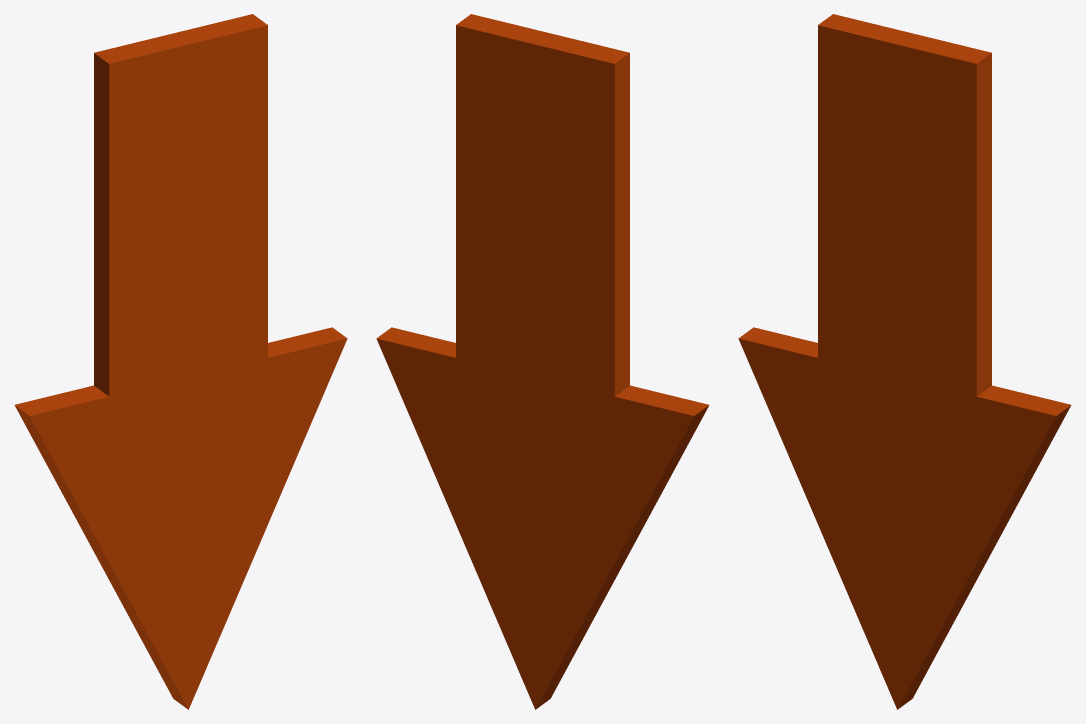
The model's file is arrow_back.fbx.
3 renders of one model, left to right at view 1: azimuth 30°, elevation 25°; view 2: azimuth 150°, elevation 25°; view 3: azimuth 330°, elevation 25°, orthographic.
Visible parts, largest first — view 1: Group1; view 2: Group1; view 3: Group1.
Boxes of the visible parts, x1,y1,x2,y2 form: Group1: [14, 14, 347, 709]; Group1: [376, 14, 709, 709]; Group1: [738, 14, 1071, 709].
Bounding box in the file's own units: 0.3 × 0.6 × 0.025.
